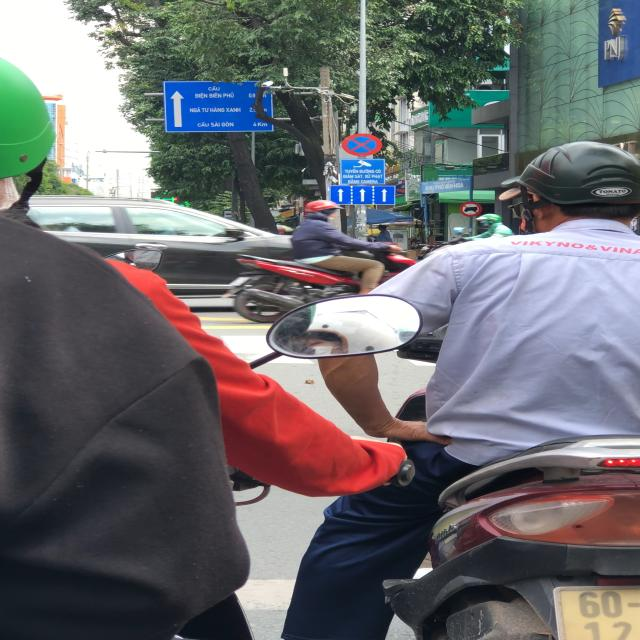Bien bao cam dung xe va do xe: (334, 129, 381, 156)
